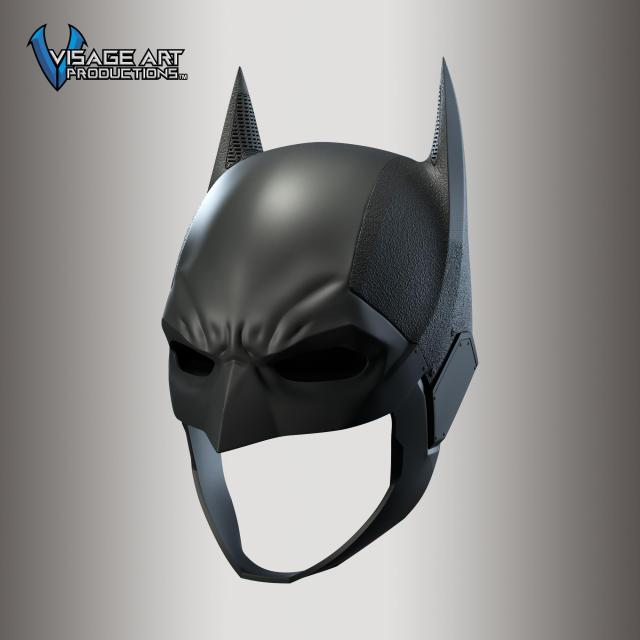Without deffect: (136, 60, 493, 590)
